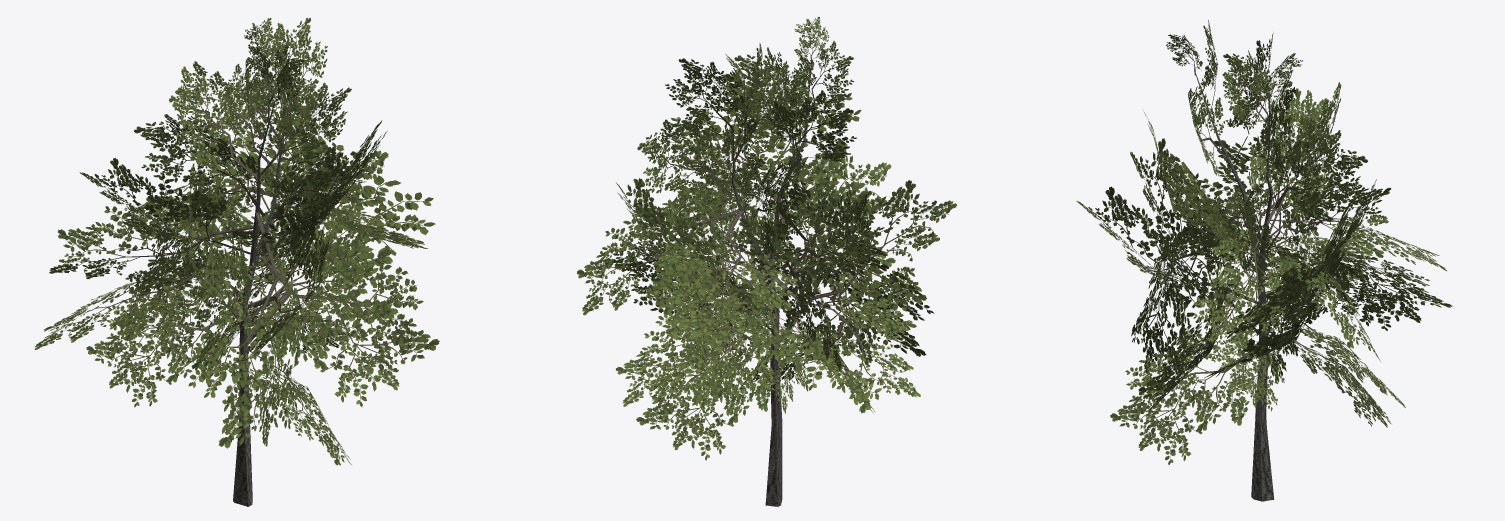
File: Tree-01-3.gltf
3 renders of one model, left to right at view 1: azimuth 30°, elevation 25°; view 2: azimuth 150°, elevation 25°; view 3: azimuth 270°, elevation 25°, orthographic. The views are drawn at different scales.
Visible parts, largest first — view 1: Tree-01-3; view 2: Tree-01-3; view 3: Tree-01-3.
Boxes of the visible parts, <box> form: Tree-01-3: <box>34,17,439,506</box>; Tree-01-3: <box>577,16,956,506</box>; Tree-01-3: <box>1076,20,1452,501</box>.
Size of the model in its own units: 7.27 by 7.51 by 6.21.
Materials: 3 (3 with a texture image).
